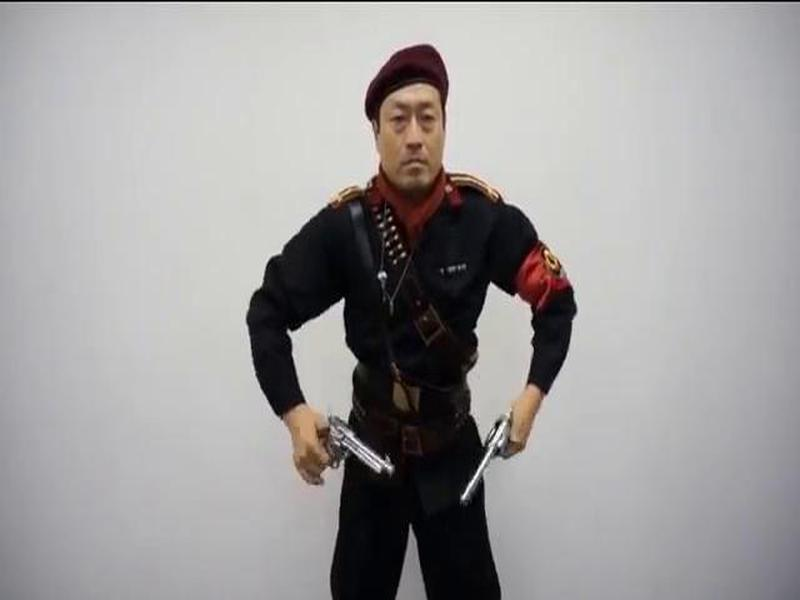Revolver: (284, 398, 397, 516), (449, 409, 534, 517)
